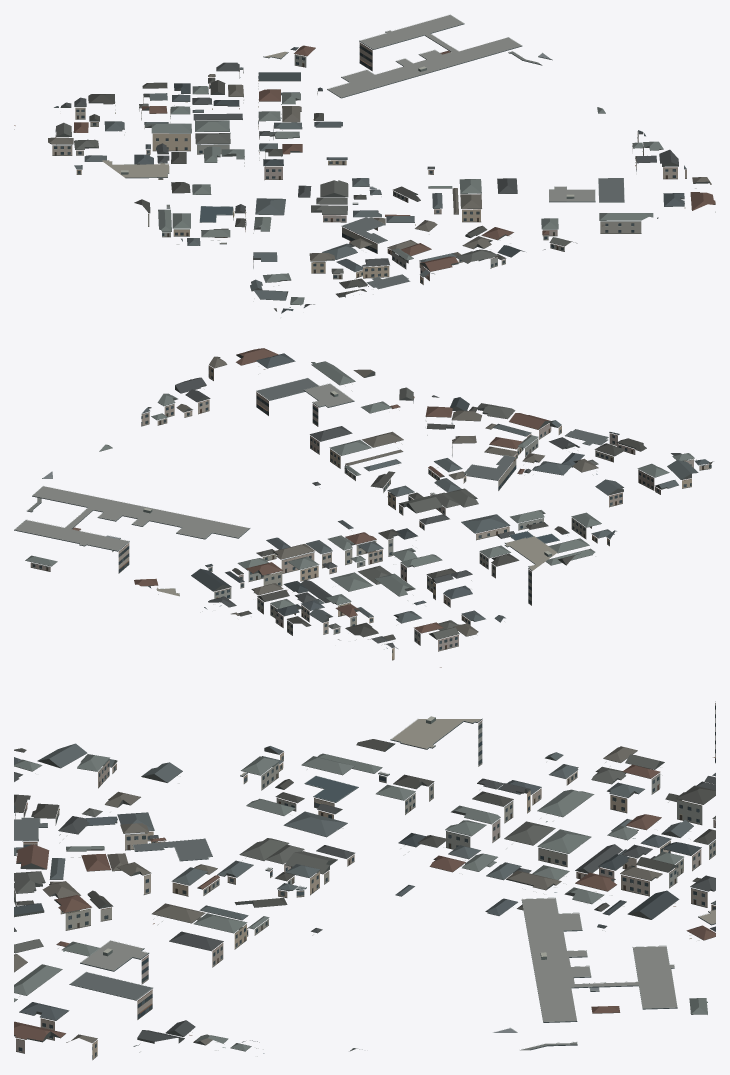
3 renders of one model, top to bottom at view 1: azimuth 30°, elevation 25°; view 2: azimuth 150°, elevation 25°; view 3: azimuth 270°, elevation 25°, orthographic. The views are drawn at different scales.
Parts seen in each view (by area): view 1: r0-c2; view 2: r0-c2; view 3: r0-c2.
Part boxes in pixels (bbox=[...]): r0-c2: bbox=[14, 14, 715, 313]; r0-c2: bbox=[14, 348, 713, 667]; r0-c2: bbox=[14, 701, 715, 1060].
Bounding box in the file's own units: 250 × 24.97 × 250.
